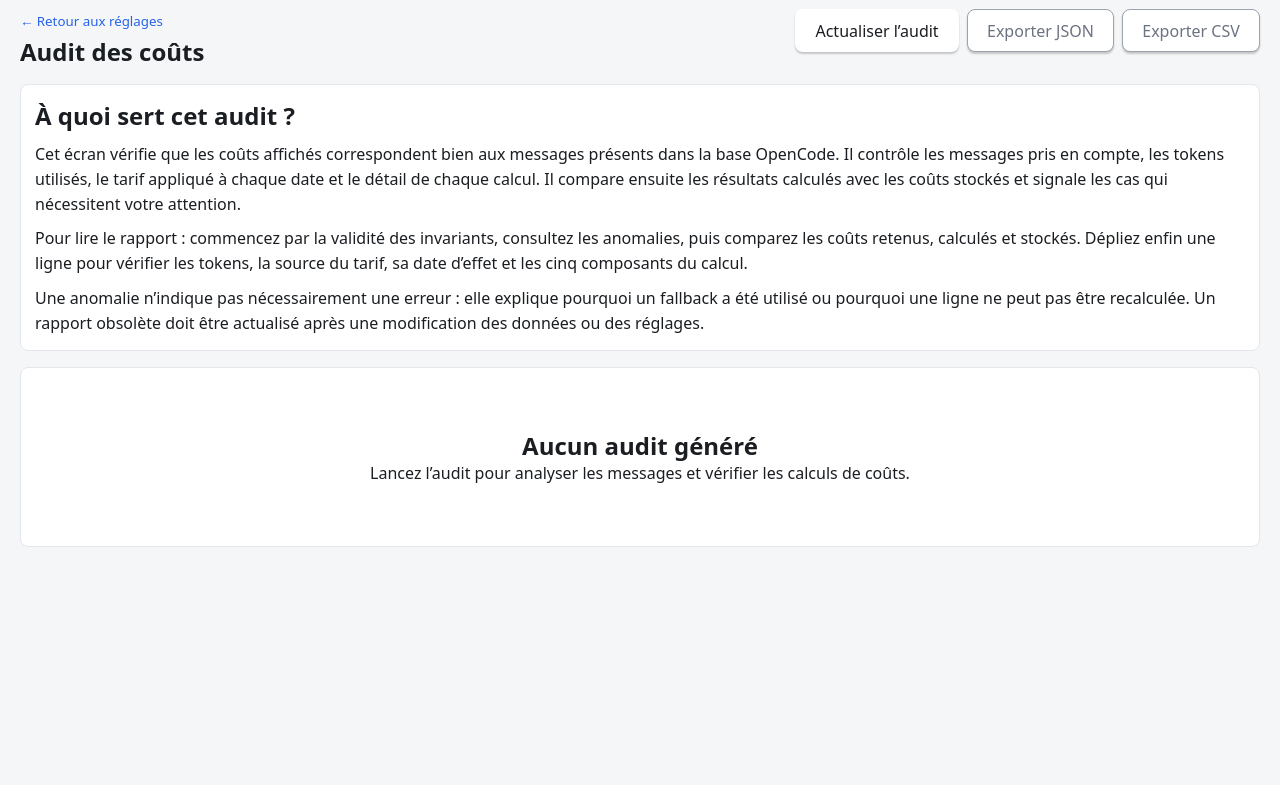
Test: AuditView › filters messages by anomaly
The image size is (1280, 785).
Click the button "Actualiser l’audit": [877, 31] box [795,9,959,52]
(page scrolled)
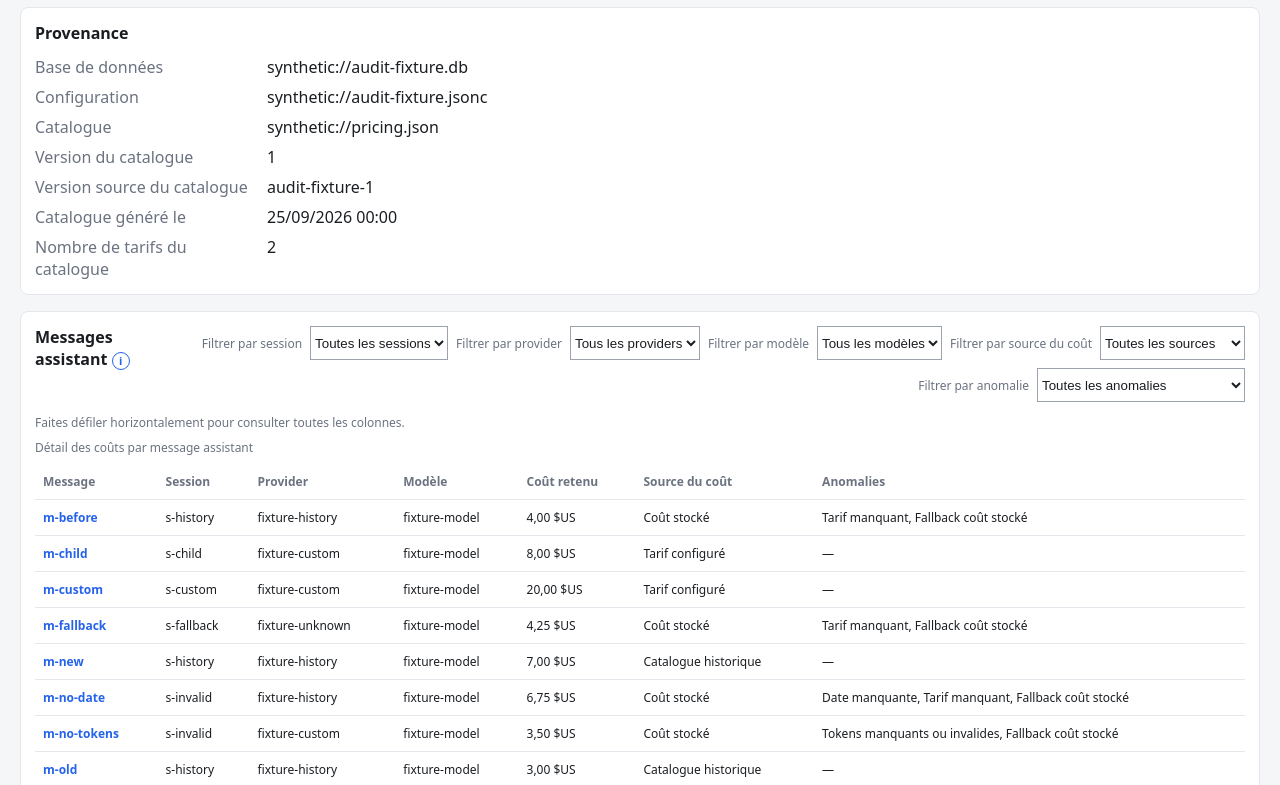
Select "Tokens manquants ou invalides" in the dropdown named "Filtrer par anomalie": [1141, 385] box [1037,368,1245,402]
(page scrolled)
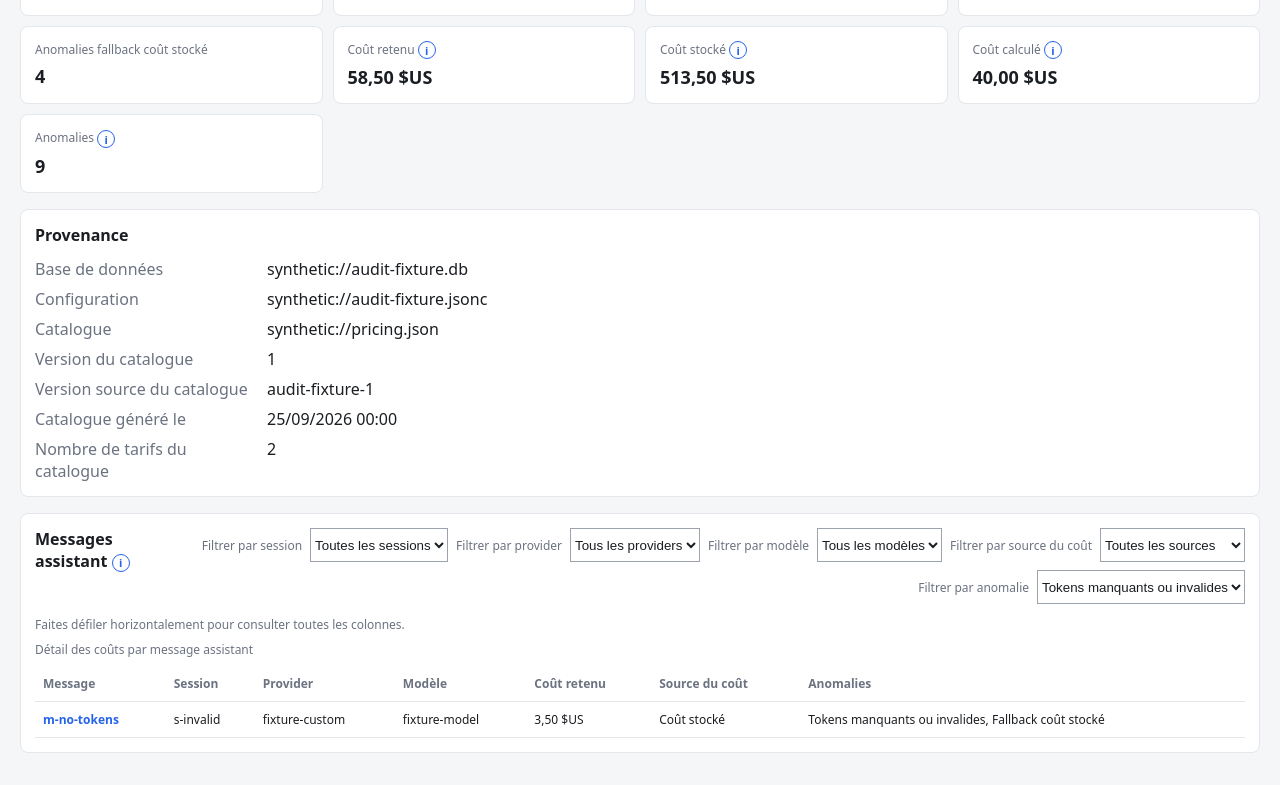
Check: the text "m-no-tokens" is shown, box [43,711,119,728]
Check: the text "m-custom" is gone
